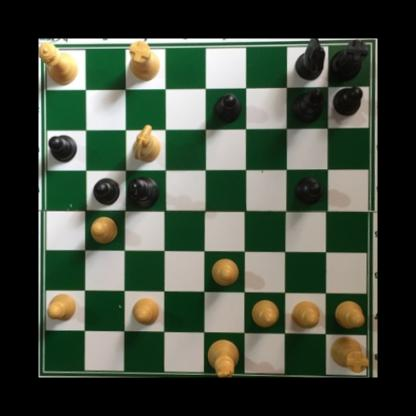black-bishop: (288, 86, 323, 122)
black-king: (124, 175, 159, 210)
black-knight: (294, 39, 328, 82)
black-pawn: (332, 85, 364, 117), (211, 92, 241, 125), (91, 176, 121, 206), (294, 174, 323, 205), (47, 134, 78, 162)
black-rook: (329, 39, 368, 83)
white-king: (206, 336, 243, 377)
white-knight: (130, 121, 162, 162)
white-pawn: (330, 301, 365, 329), (249, 298, 280, 329), (210, 256, 240, 288), (45, 291, 78, 320), (130, 296, 161, 326), (290, 299, 320, 330), (90, 216, 118, 245)
white-queen: (39, 39, 78, 84)
white-rook: (327, 333, 369, 374), (124, 39, 159, 83)
